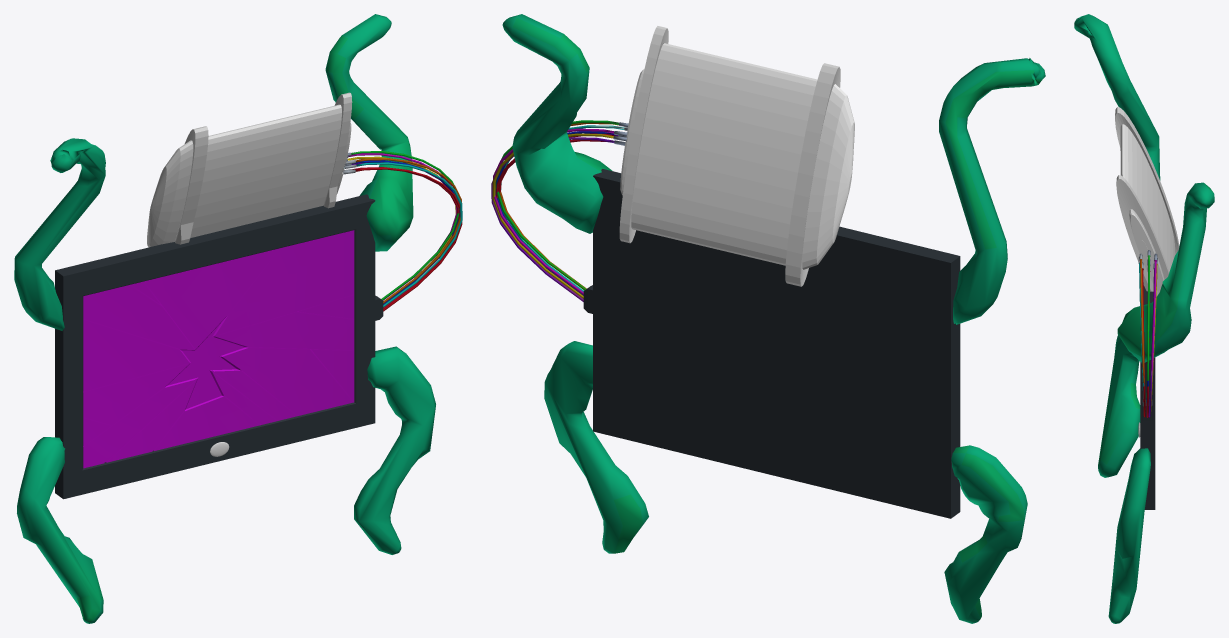
Rendered from Ipad-pod.fbx.
3 renders of one model, left to right at view 1: azimuth 30°, elevation 25°; view 2: azimuth 150°, elevation 25°; view 3: azimuth 270°, elevation 25°, orthographic. The views are drawn at different scales.
Visible parts, largest first — view 1: Cube.003, BezierCurve.011, Cylinder, Cylinder.001, Cylinder.002, BezierCurve.007, BezierCurve.004, BezierCurve.010, BezierCurve.005; view 2: Cube.003, BezierCurve.011, Cylinder, Cylinder.001, Cylinder.002, BezierCurve.008; view 3: BezierCurve.011, Cylinder, Cylinder.002, Cube.003, Cylinder.001, BezierCurve.010, BezierCurve.005, BezierCurve.009, BezierCurve.004, BezierCurve.002, BezierCurve.007.
Boxes of the visible parts, x1,y1,x2,y2 form: Cube.003: (55, 194, 383, 499); BezierCurve.011: (14, 14, 435, 623); Cylinder: (147, 104, 341, 247); Cylinder.001: (175, 126, 208, 244); Cylinder.002: (323, 92, 352, 208); BezierCurve.007: (344, 162, 462, 307); BezierCurve.004: (342, 167, 462, 311); BezierCurve.010: (344, 158, 461, 303); BezierCurve.005: (347, 151, 459, 300); Cube.003: (583, 169, 960, 518); BezierCurve.011: (502, 14, 1045, 623); Cylinder: (631, 43, 854, 269); Cylinder.001: (785, 63, 840, 286); Cylinder.002: (619, 26, 668, 243); BezierCurve.008: (492, 133, 626, 298); BezierCurve.011: (1074, 14, 1214, 623); Cylinder: (1120, 124, 1174, 271); Cylinder.002: (1116, 175, 1169, 296); Cube.003: (1140, 282, 1155, 509); Cylinder.001: (1115, 107, 1179, 254); BezierCurve.010: (1139, 253, 1145, 409); BezierCurve.005: (1146, 250, 1150, 397); BezierCurve.009: (1151, 253, 1157, 372); BezierCurve.004: (1142, 261, 1145, 417); BezierCurve.002: (1148, 262, 1154, 417); BezierCurve.007: (1138, 256, 1144, 406).
Bounding box in the file's own units: 324 × 343 × 95.95.
